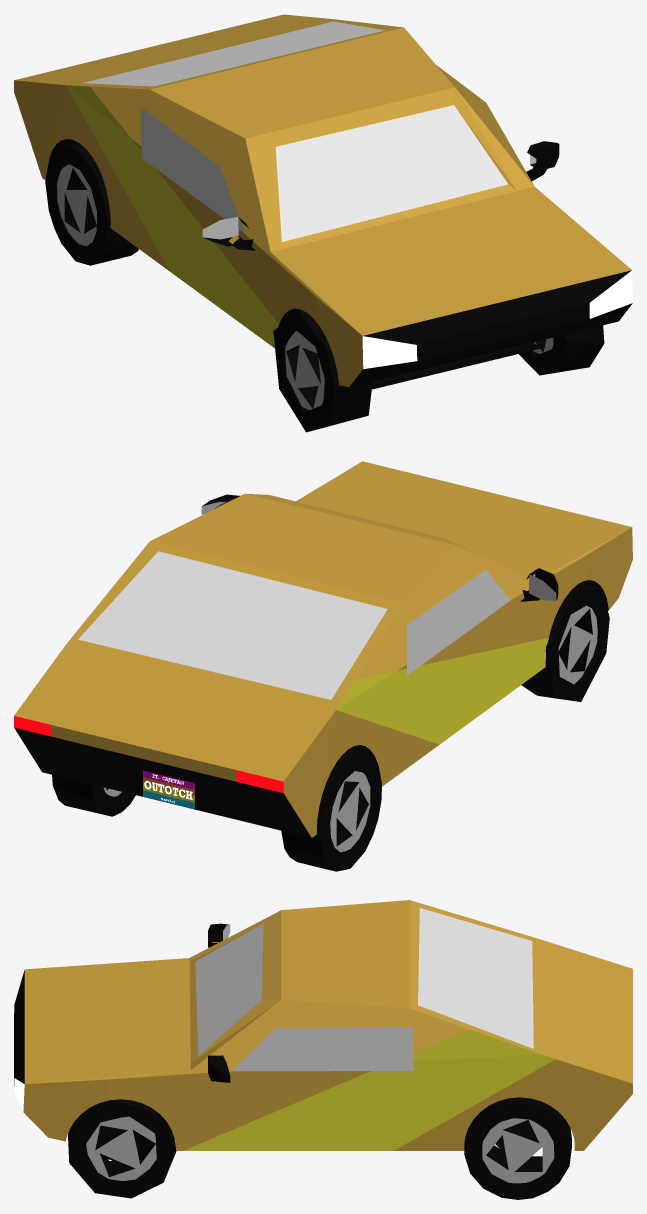
Rendered from 80s Car 3.glb.
The picture shows the model from 3 angles, top to bottom: view 1: azimuth 30°, elevation 25°; view 2: azimuth 150°, elevation 25°; view 3: azimuth 270°, elevation 25°; orthographic projection. The views are drawn at different scales.
Visible parts, largest first — view 1: Body, Front Wheels, Rear Wheels; view 2: Body, Rear Wheels, Front Wheels, St Cajetan License Plate; view 3: Body, Rear Wheels, Front Wheels.
Part boxes in pixels (bbox=[...]): Body: bbox=[14, 14, 632, 389]; Front Wheels: bbox=[273, 310, 604, 432]; Rear Wheels: bbox=[45, 142, 138, 265]; Body: bbox=[14, 461, 632, 837]; Rear Wheels: bbox=[52, 748, 381, 871]; Front Wheels: bbox=[521, 583, 609, 701]; St Cajetan License Plate: bbox=[143, 770, 194, 808]; Body: bbox=[14, 900, 632, 1161]; Rear Wheels: bbox=[464, 1097, 571, 1199]; Front Wheels: bbox=[68, 1099, 176, 1198].
Bounding box in the file's own units: 3.12 × 1.83 × 5.4.
